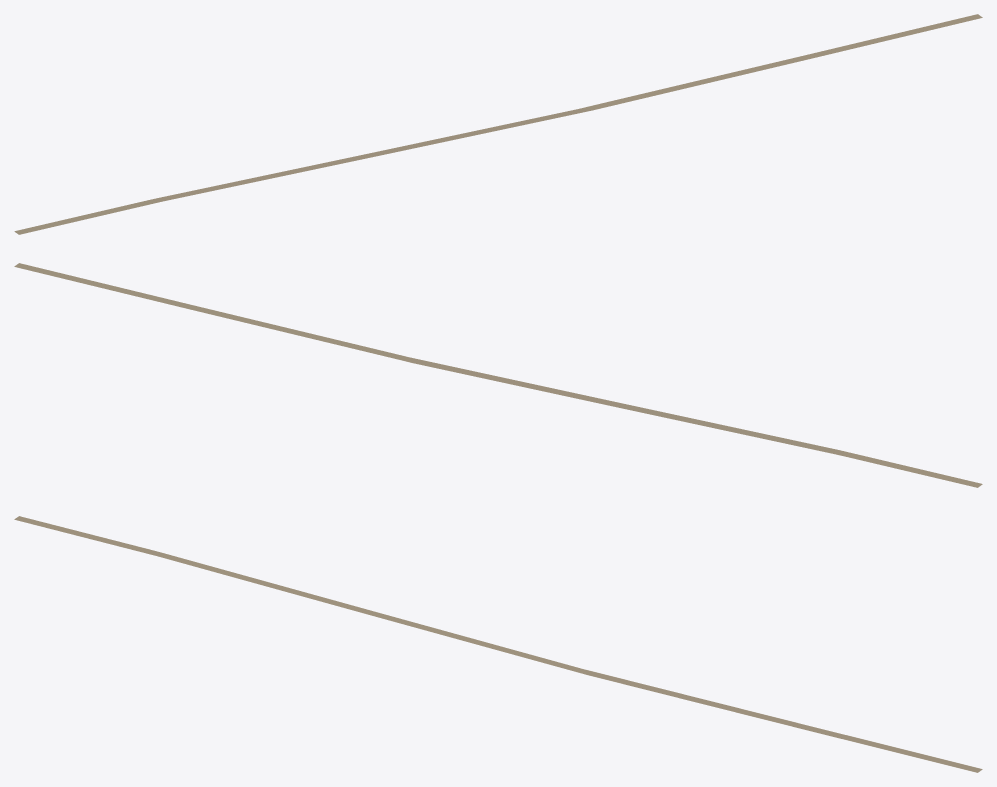
The model's file is farm_17_19_track.glb.
3 renders of one model, top to bottom at view 1: azimuth 30°, elevation 25°; view 2: azimuth 150°, elevation 25°; view 3: azimuth 330°, elevation 25°, orthographic.
Visible parts, largest first — view 1: geometry_0; view 2: geometry_0; view 3: geometry_0.
Boxes of the visible parts, bbox=[...] form: geometry_0: bbox=[14, 14, 982, 234]; geometry_0: bbox=[14, 263, 982, 487]; geometry_0: bbox=[14, 516, 982, 772].
Bounding box in the file's own units: 358 × 5.73 × 4.59.
